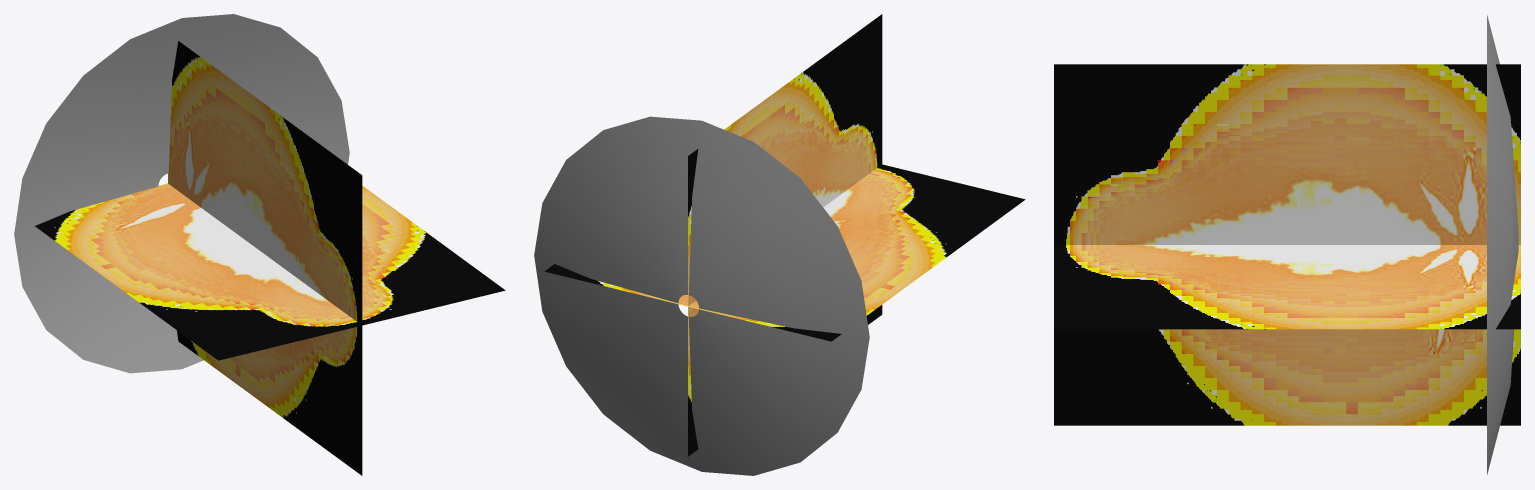
File: MuzzleMesh.fbx
3 views of the same model, side by side, from view 1: azimuth 30°, elevation 25°; view 2: azimuth 150°, elevation 25°; view 3: azimuth 270°, elevation 25° (orthographic). The views are drawn at different scales.
Visible parts, largest first — view 1: muzzleplane1, muzzlecone; view 2: muzzlecone, muzzleplane1; view 3: muzzleplane1, muzzlecone.
Boxes of the visible parts, x1,y1,x2,y2 form: muzzleplane1: [35, 41, 505, 475]; muzzlecone: [14, 14, 349, 373]; muzzlecone: [534, 116, 869, 475]; muzzleplane1: [544, 14, 1025, 456]; muzzleplane1: [1054, 64, 1520, 425]; muzzlecone: [1487, 15, 1518, 474].
Size of the model in its own units: 23.41 by 23.41 by 23.47.
Materials: 2 (1 with a texture image).
